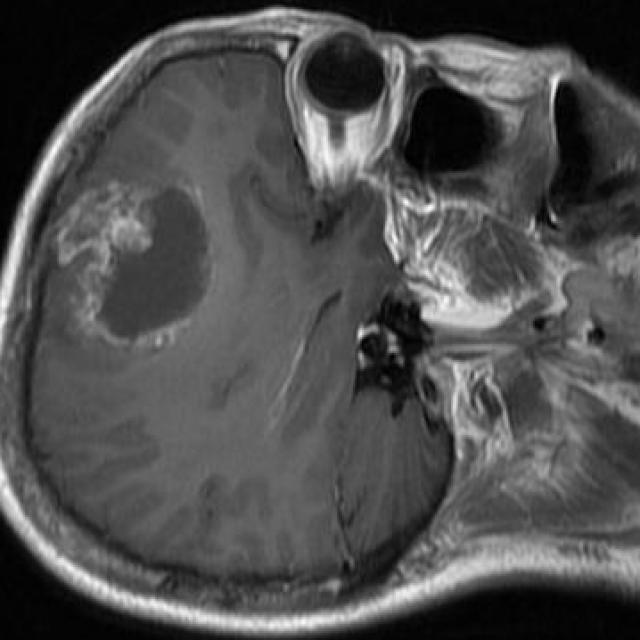glioma: (59, 182, 217, 351)
